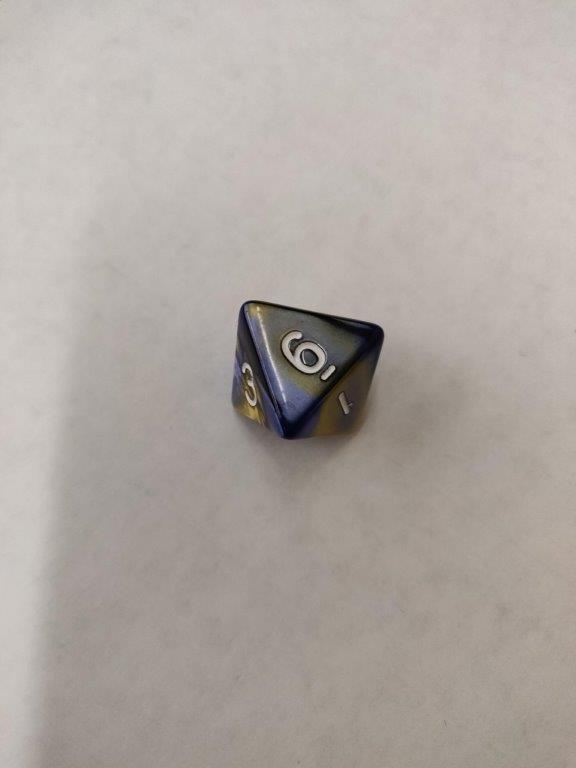d8-6: (220, 299, 390, 447)
